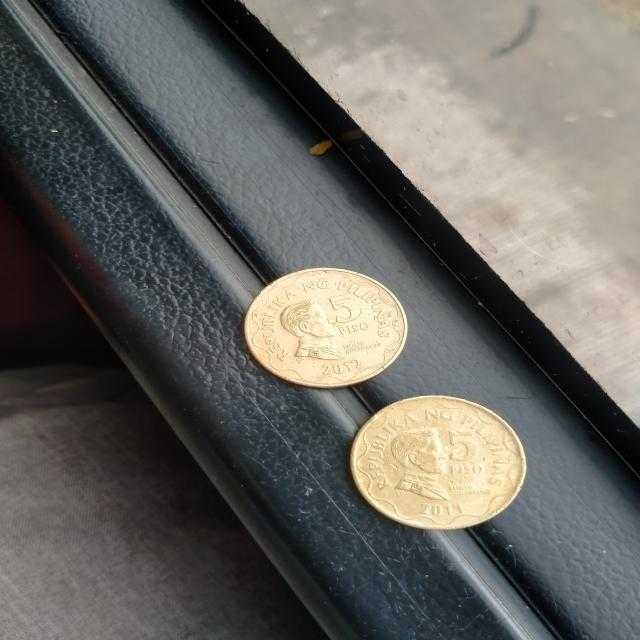5_Old_Front: (438, 420, 508, 486), (322, 284, 372, 340)
